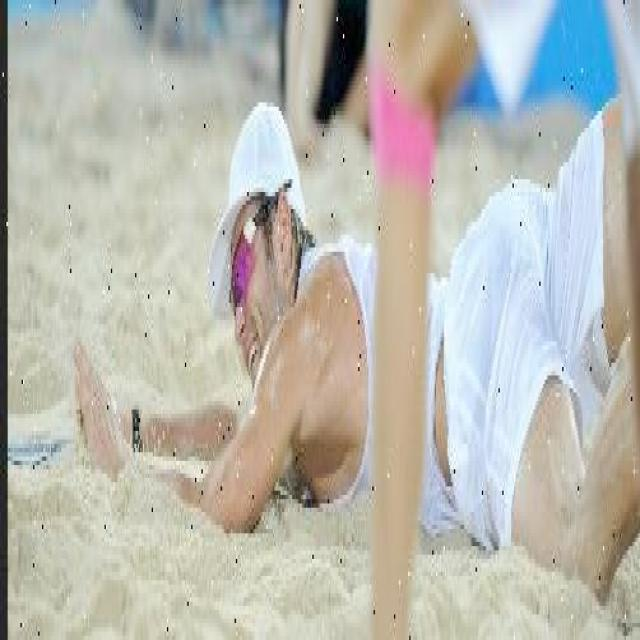fall: (72, 90, 638, 618)
